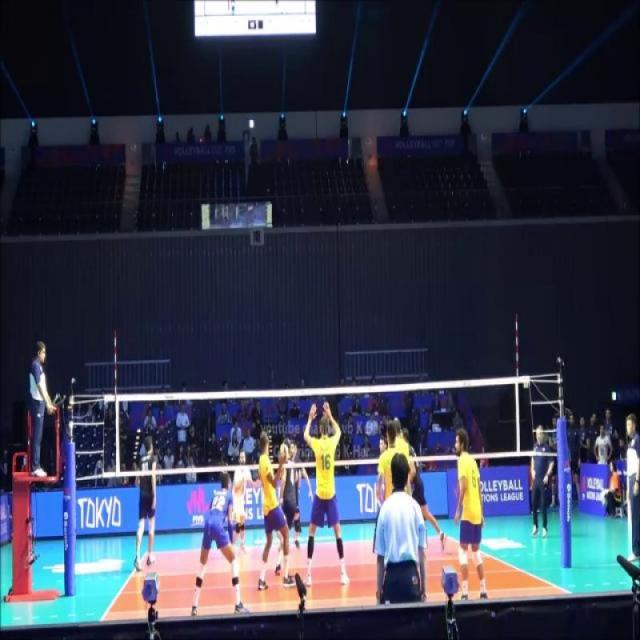volleyball: (279, 442, 290, 460)
